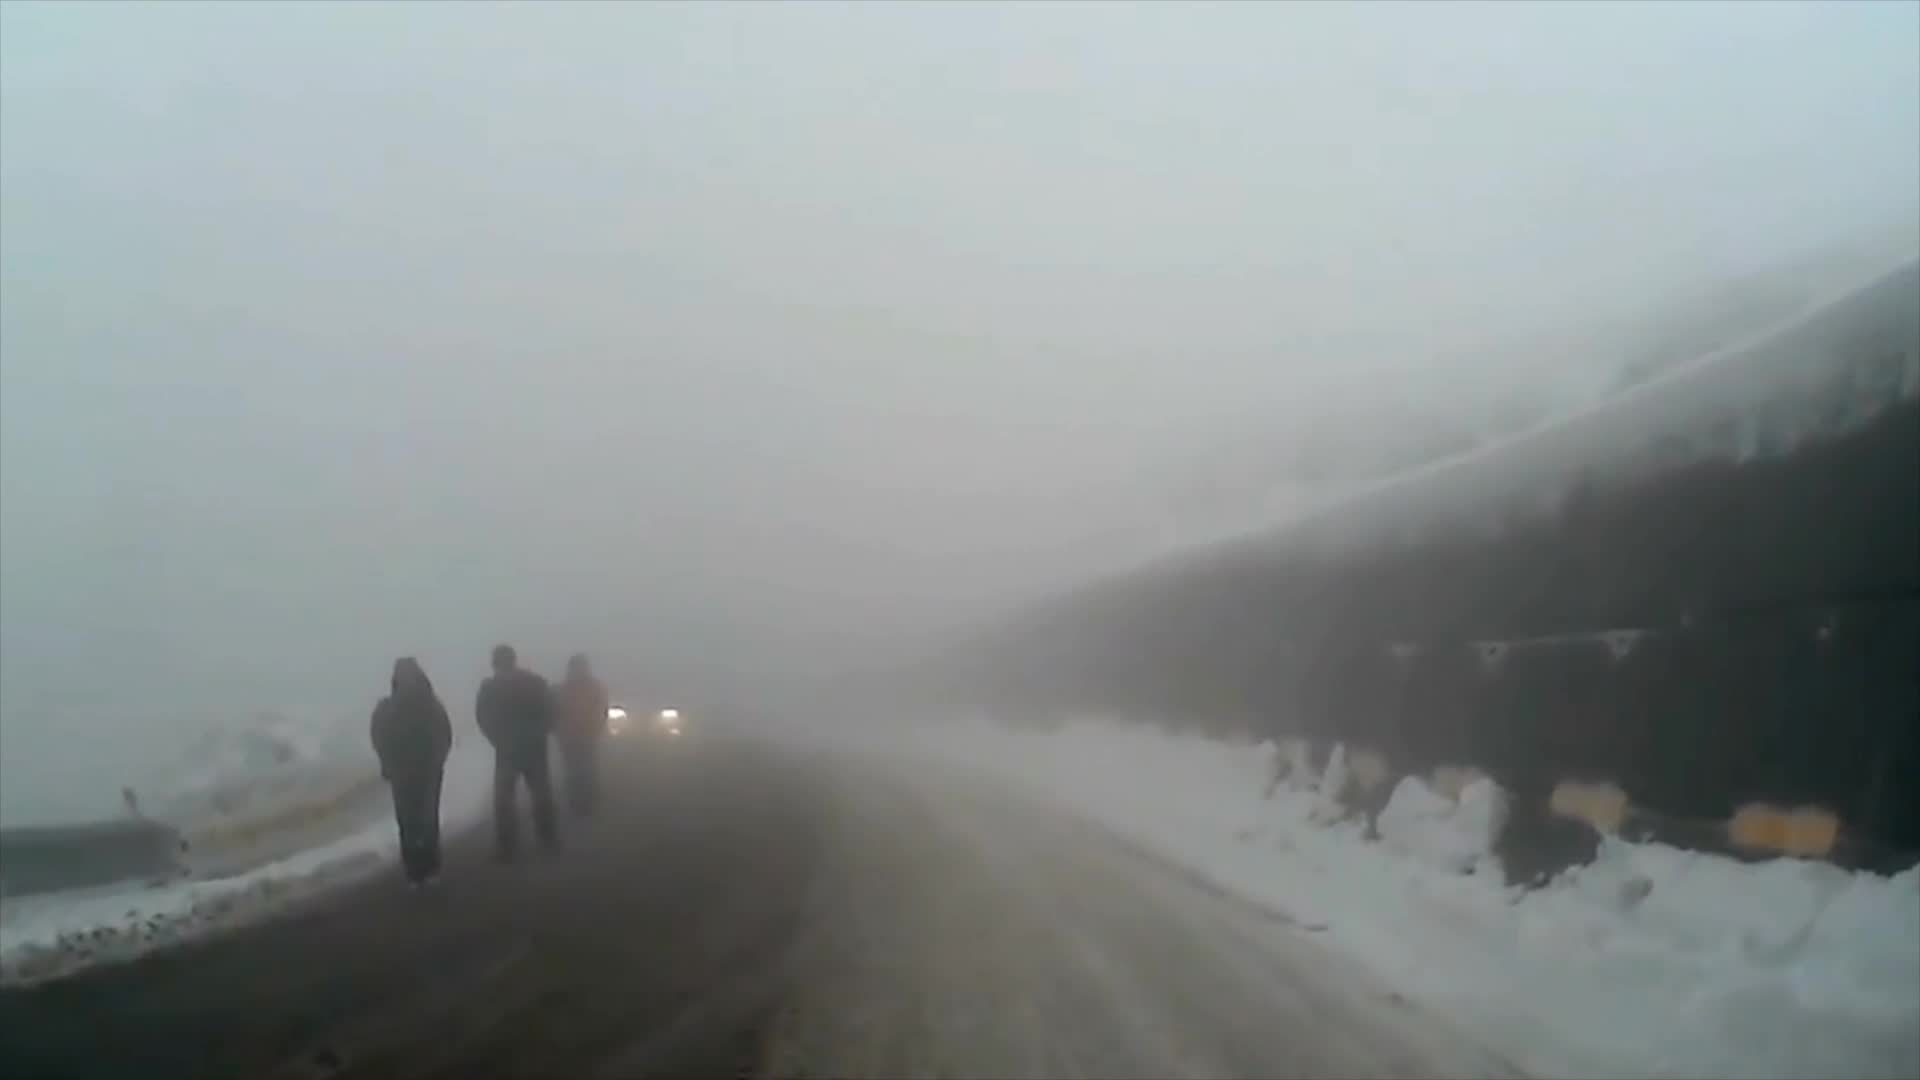pedestrian: (373, 653, 458, 897), (475, 647, 559, 865), (549, 655, 613, 825)
vehicle: (597, 682, 686, 757)
